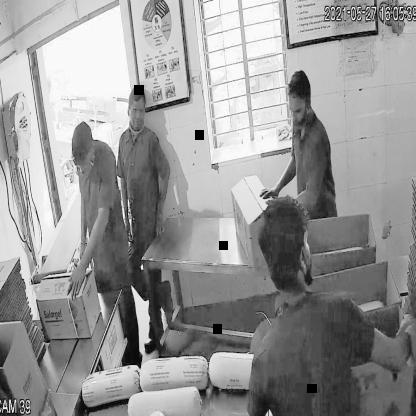no_goggles: (283, 96, 314, 121)
